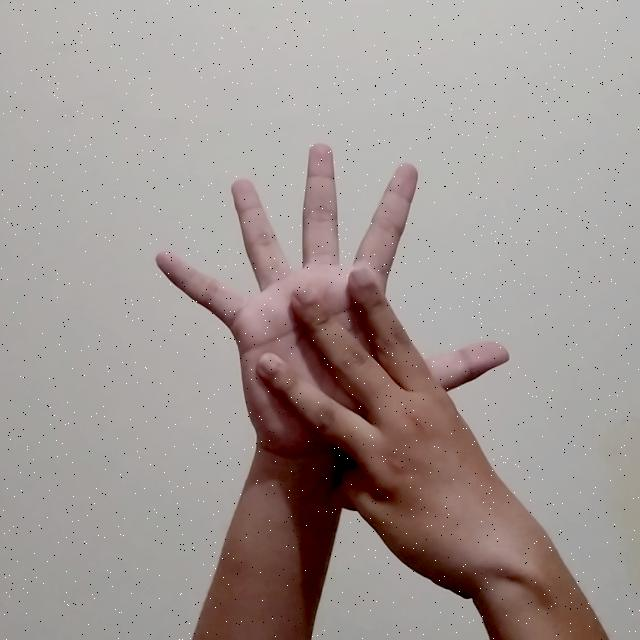M: (149, 137, 519, 507)
